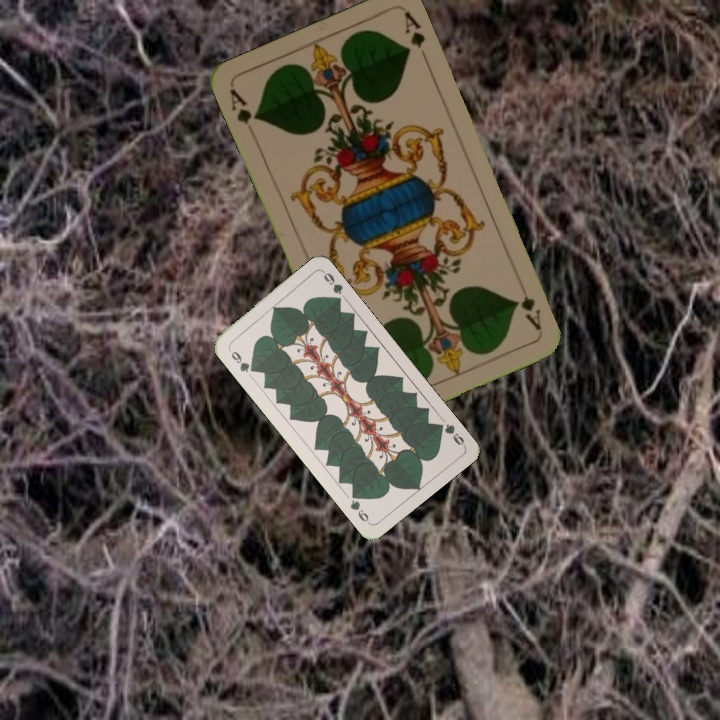G9: (224, 344, 258, 375), (432, 419, 467, 449)
GA: (516, 276, 544, 333), (225, 85, 262, 127)
